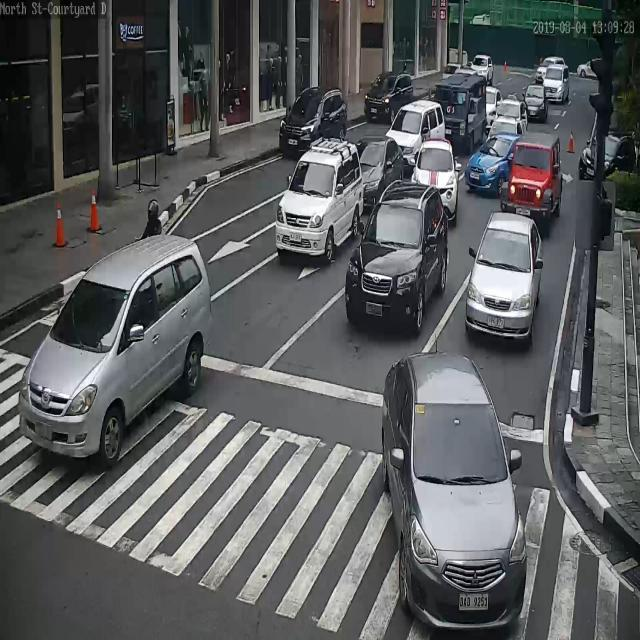bus: (432, 74, 487, 147)
car: (18, 233, 210, 457), (382, 354, 522, 640), (345, 179, 449, 331), (463, 203, 542, 345), (277, 140, 363, 261), (277, 85, 348, 153), (409, 140, 462, 224), (355, 137, 405, 206), (385, 101, 446, 155), (578, 130, 638, 180), (465, 142, 515, 193), (364, 73, 414, 122), (494, 97, 529, 133), (523, 84, 547, 120), (490, 118, 526, 141), (444, 67, 481, 84), (486, 88, 503, 124), (472, 55, 494, 82), (536, 55, 567, 74), (576, 59, 600, 79), (535, 62, 558, 82)
jeepney: (137, 195, 160, 246)
tricycle: (500, 135, 564, 222)
van: (543, 66, 570, 105)
